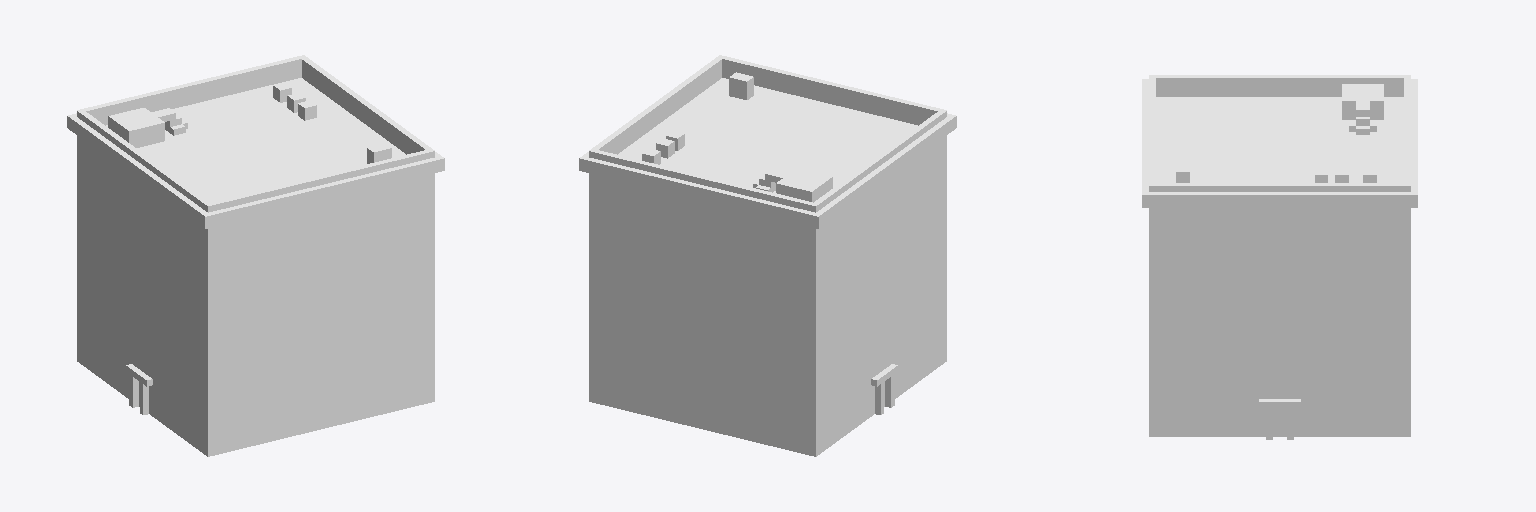
File: BigBuilding.obj
3 renders of one model, left to right at view 1: azimuth 30°, elevation 25°; view 2: azimuth 150°, elevation 25°; view 3: azimuth 270°, elevation 25°, orthographic.
Parts seen in each view (by area): view 1: BigBuilding; view 2: BigBuilding; view 3: BigBuilding.
Boxes of the visible parts, <box> form: BigBuilding: <box>67,55,444,456</box>; BigBuilding: <box>579,55,956,456</box>; BigBuilding: <box>1142,75,1417,439</box>.
Bounding box in the file's own units: 40 × 40 × 40.